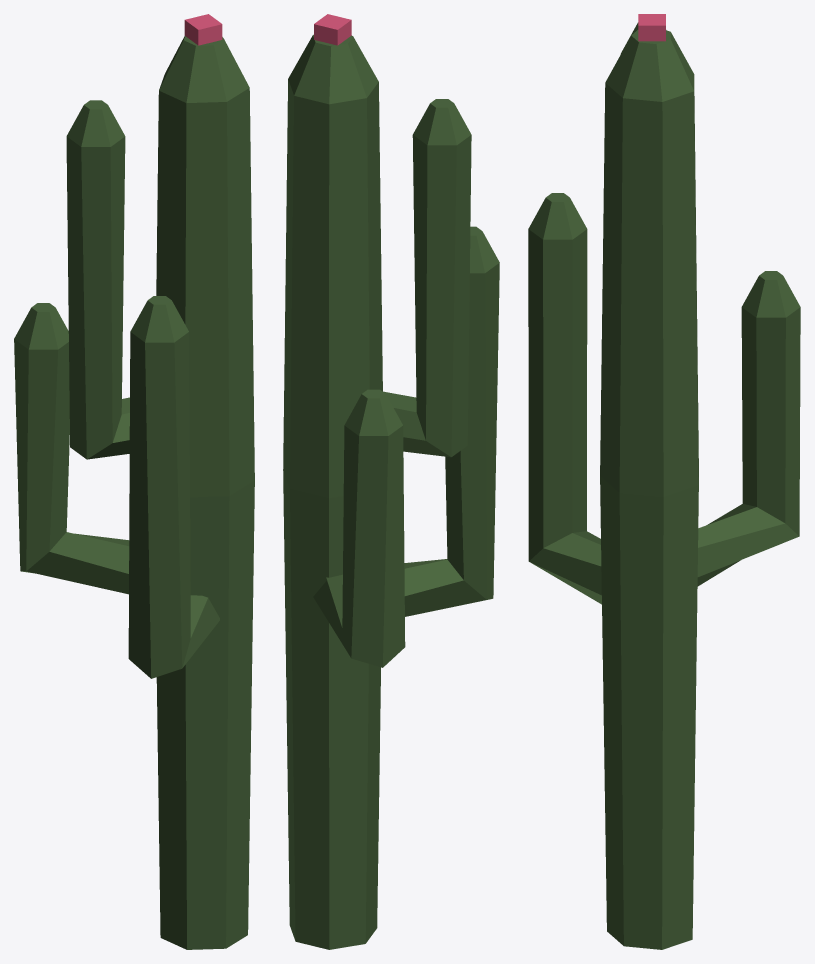
The model's file is SM_Saguaro_C.fbx.
3 renders of one model, left to right at view 1: azimuth 30°, elevation 25°; view 2: azimuth 150°, elevation 25°; view 3: azimuth 270°, elevation 25°, orthographic.
Visible parts, largest first — view 1: Saguaro_C; view 2: Saguaro_C; view 3: Saguaro_C.
Part boxes in pixels (left/top/right/bottom): Saguaro_C: left=14, top=14, right=254, bottom=949; Saguaro_C: left=283, top=14, right=499, bottom=949; Saguaro_C: left=528, top=14, right=800, bottom=949.
Size of the model in its own units: 116 by 157 by 580.
